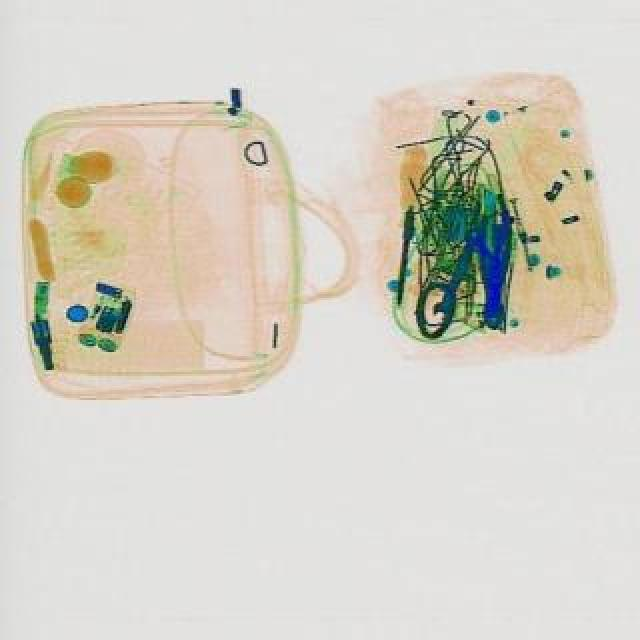scissors: (428, 230, 480, 324)
wrench: (472, 220, 508, 334)
